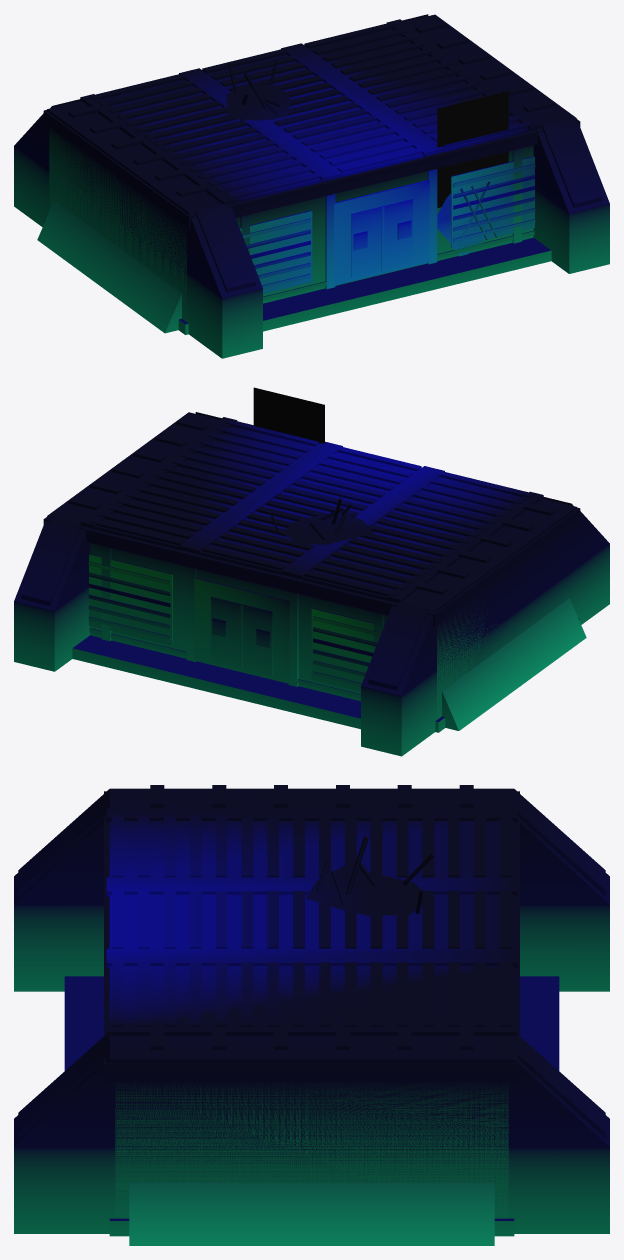
The model's file is rpbuilding_damaged.glb.
The picture shows the model from 3 angles, top to bottom: view 1: azimuth 30°, elevation 25°; view 2: azimuth 150°, elevation 25°; view 3: azimuth 270°, elevation 25°; orthographic projection. The views are drawn at different scales.
Visible parts, largest first — view 1: lod0; view 2: lod0; view 3: lod0.
Boxes of the visible parts, x1=… form: lod0: x1=14, y1=14, x2=609, y2=358; lod0: x1=14, y1=387, x2=609, y2=756; lod0: x1=14, y1=785, x2=609, y2=1245.
Size of what is drawn, in the model's own units: 24.8 by 9.2 by 21.2.
